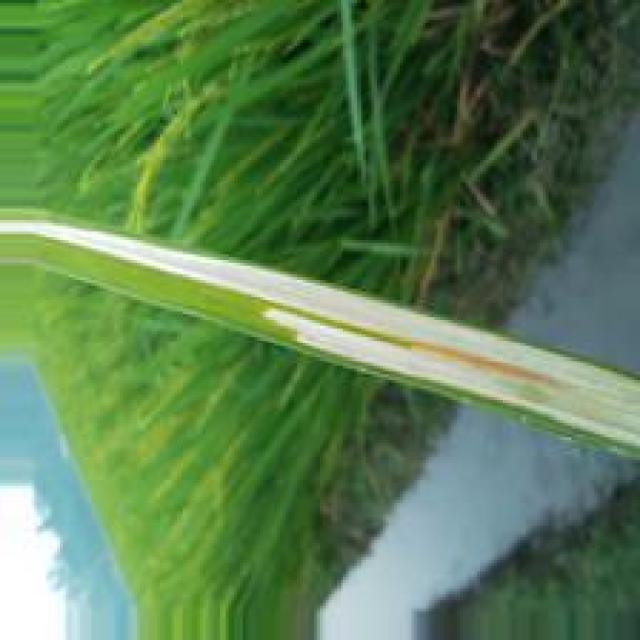Rice_Hispa: (1, 220, 637, 447)
